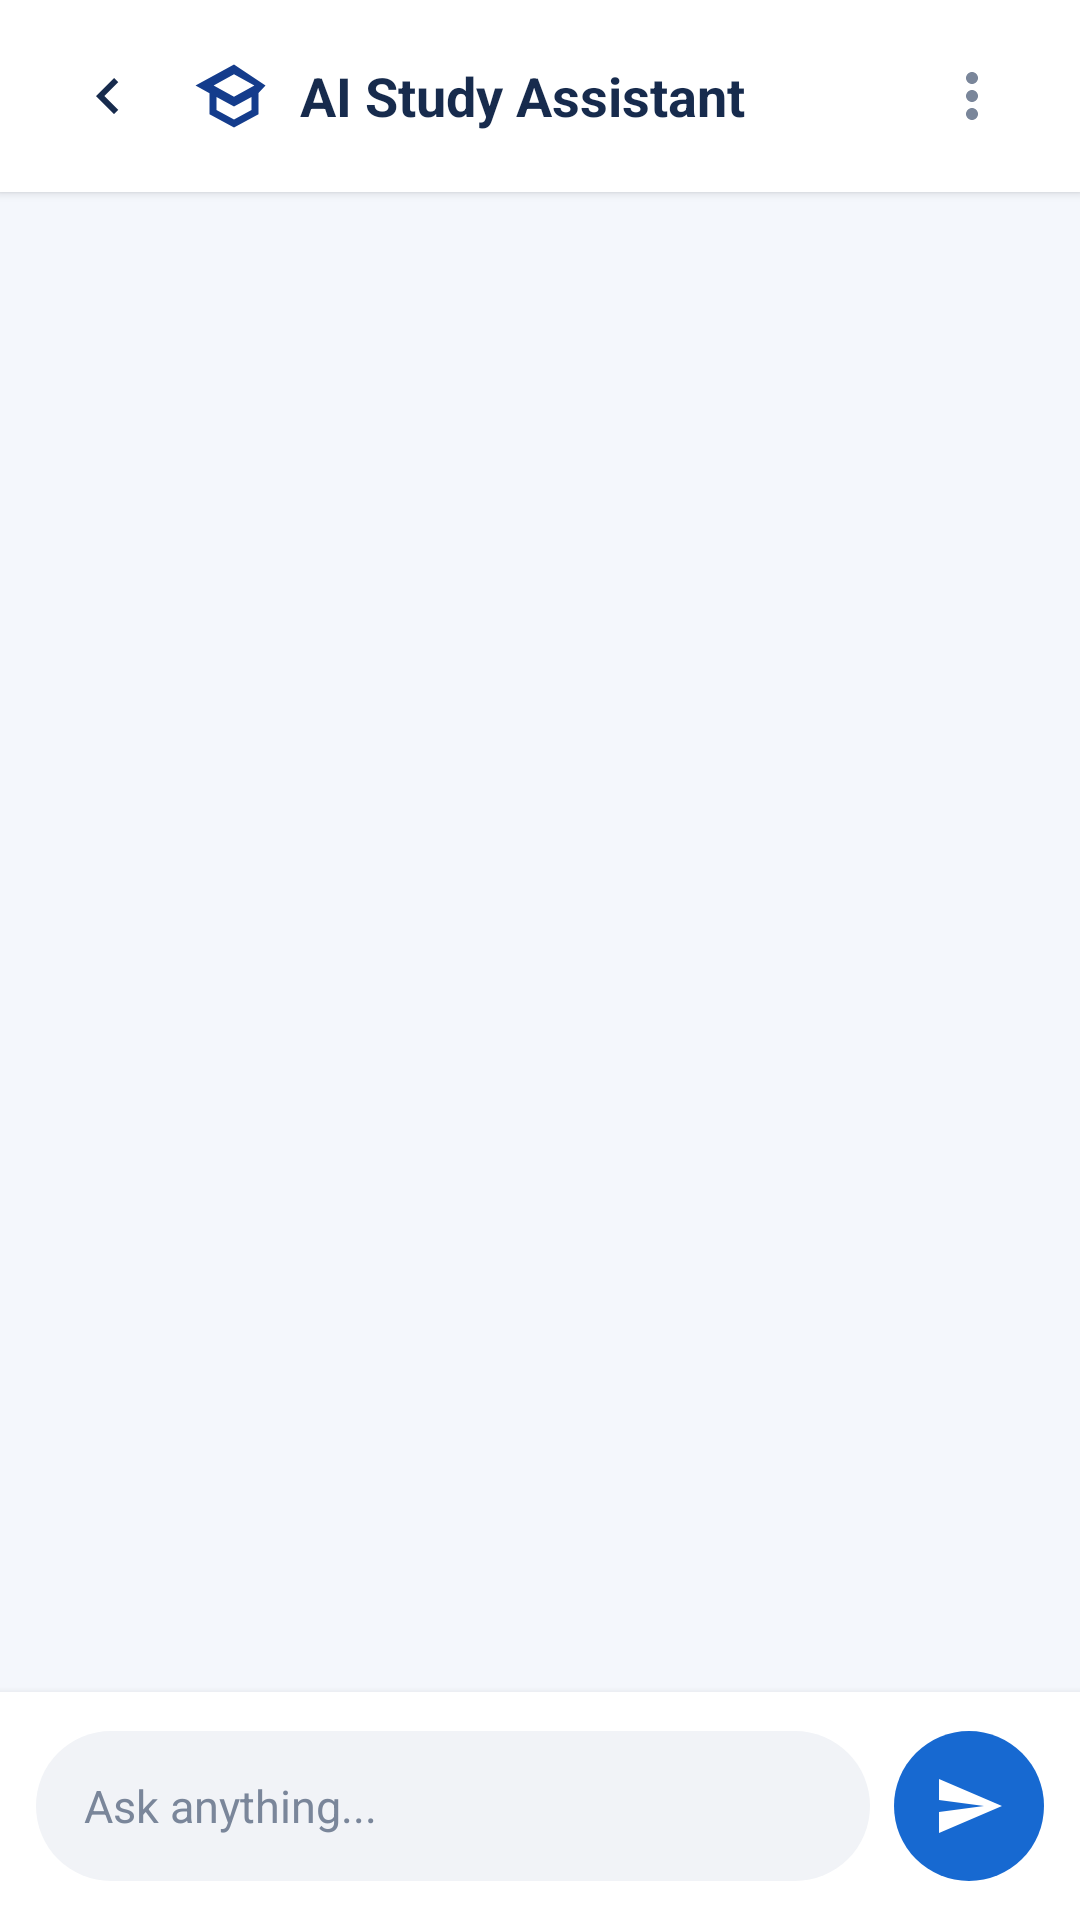

Icons on this 1080 × 1920 Android screen, each with its box as (x1, y1, x2, y2):
More options: (966, 72, 978, 120)
Send message: (894, 1731, 1044, 1881)
